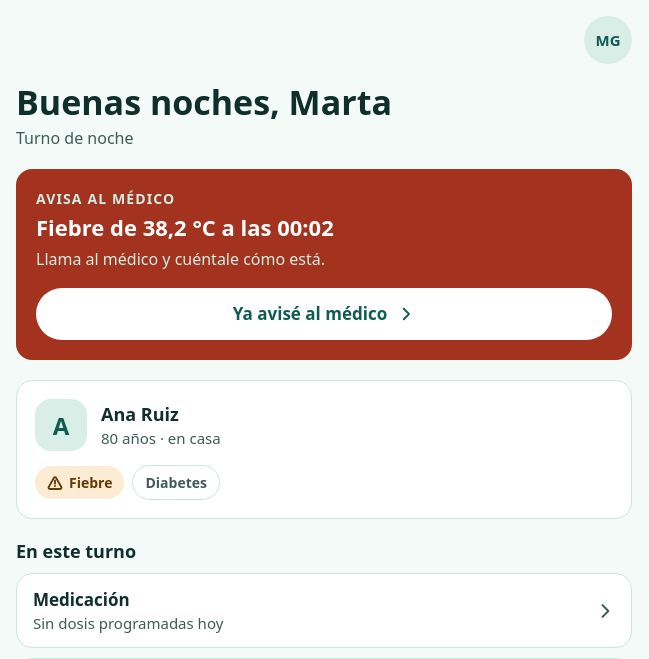
Test: Inicio: a notice queued offline moves the hero on, so it is not queued twice
The width and height of the screenshot is (649, 659).
Step 1. Click the button "Ya avisé al médico" → (324, 314), box [36,288,612,340]
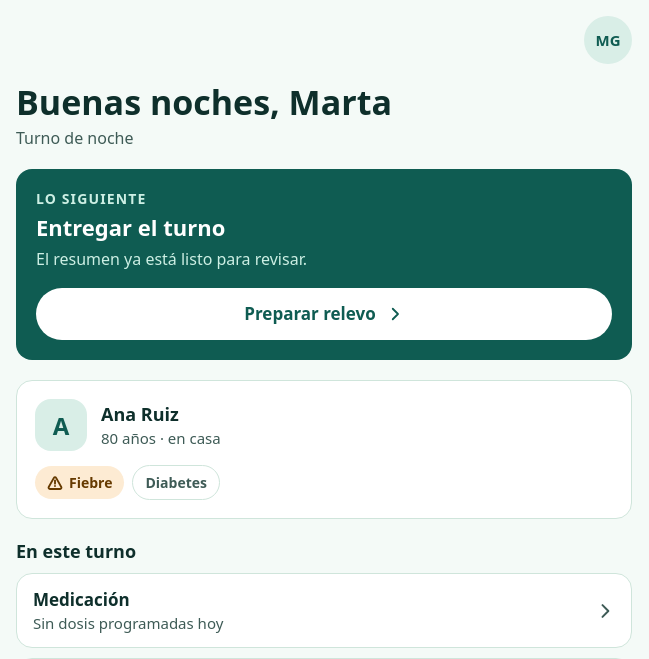
Check: the button "Ya avisé al médico" is gone
